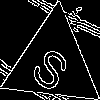S: (28, 38, 78, 95)
